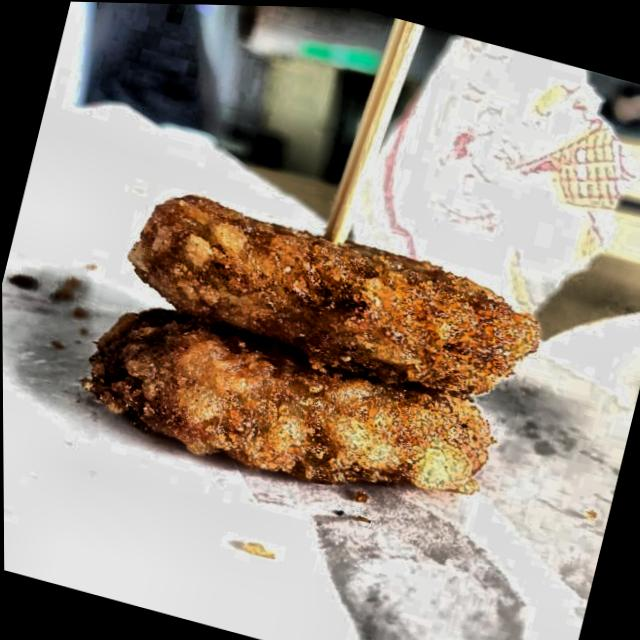Food: (73, 173, 533, 528)
